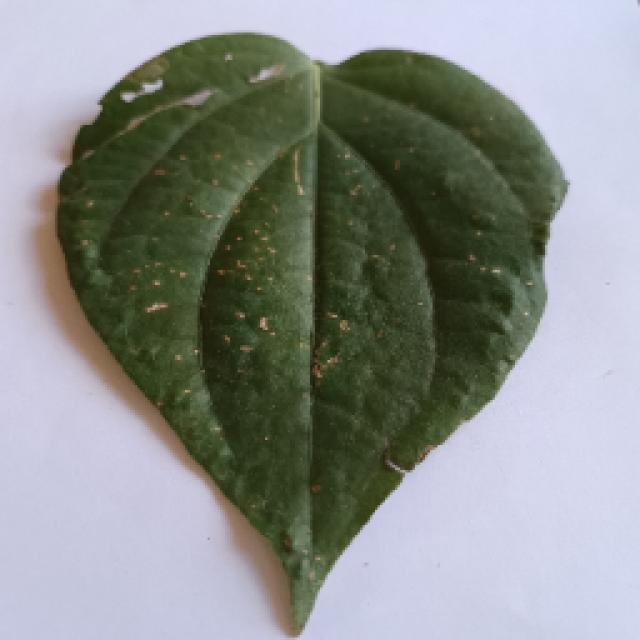pollu-disease: (38, 43, 578, 635)
